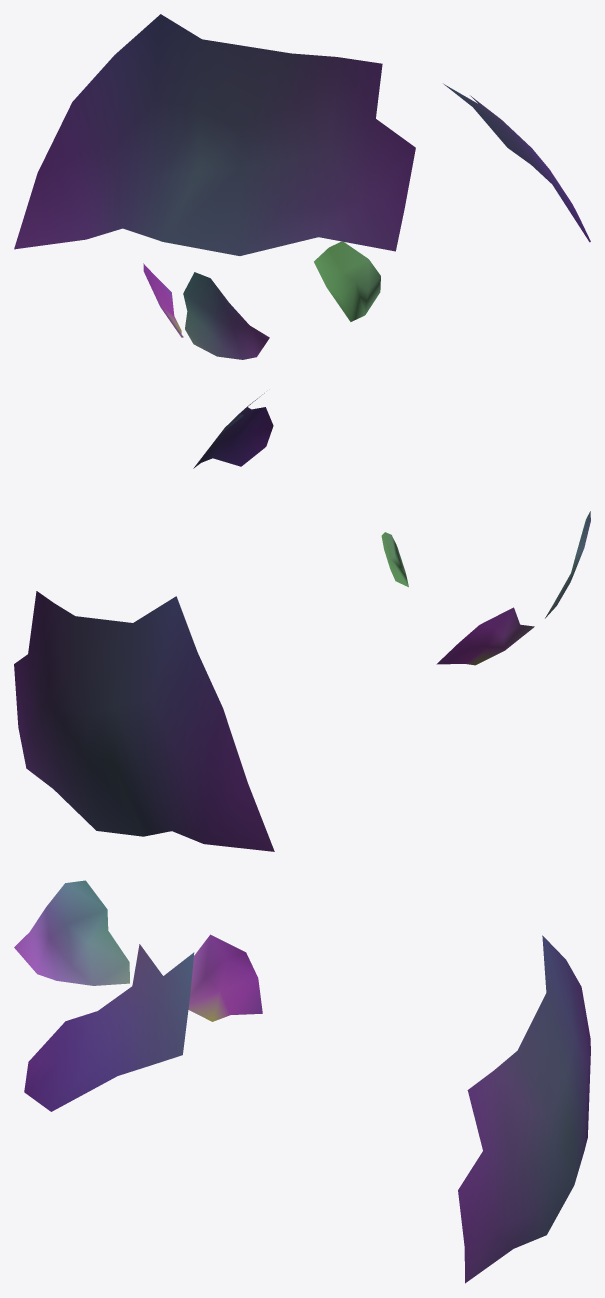
Rendered from space-nebulae-nebula_v61.glb.
The picture shows the model from 3 angles, top to bottom: view 1: azimuth 30°, elevation 25°; view 2: azimuth 150°, elevation 25°; view 3: azimuth 270°, elevation 25°; orthographic projection. The views are drawn at different scales.
Visible parts, largest first — view 1: Nebula_v61; view 2: Nebula_v61; view 3: Nebula_v61.
Part boxes in pixels (x1,y1,x2,y2): Nebula_v61: (14, 14, 590, 359); Nebula_v61: (14, 393, 590, 851); Nebula_v61: (14, 880, 590, 1283).
Bounding box in the file's own units: 0.4056 × 0.2897 × 0.5.
